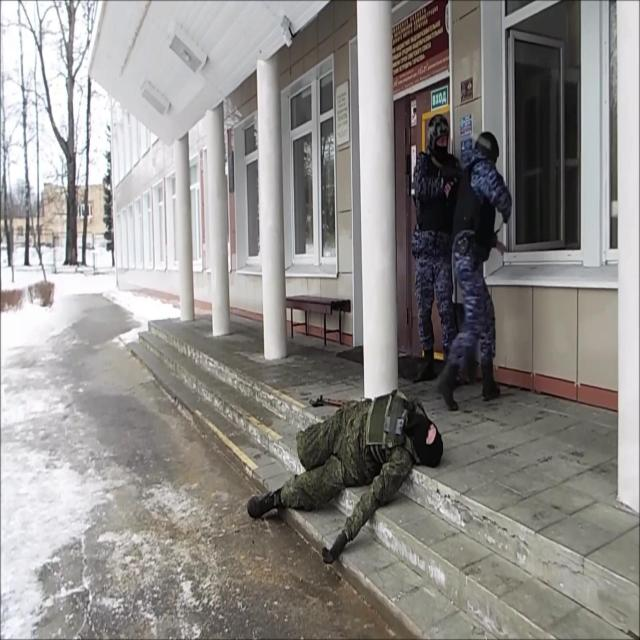gun: (247, 388, 444, 565), (414, 114, 464, 384), (466, 119, 508, 350), (428, 155, 465, 194)
